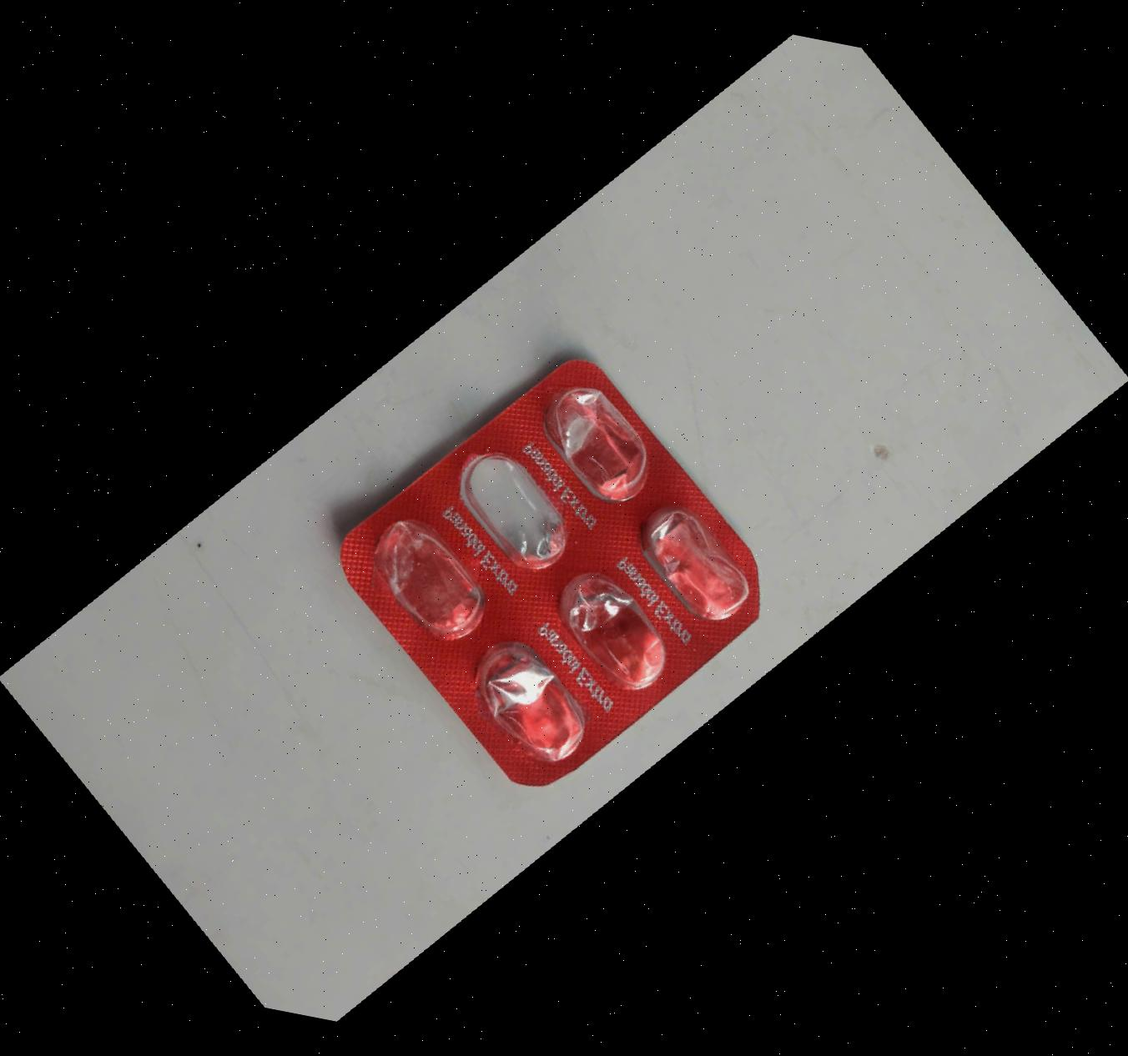Empty: (543, 553, 690, 705), (357, 502, 504, 654), (460, 627, 607, 779), (530, 367, 676, 519), (445, 433, 591, 585), (627, 487, 772, 639)
